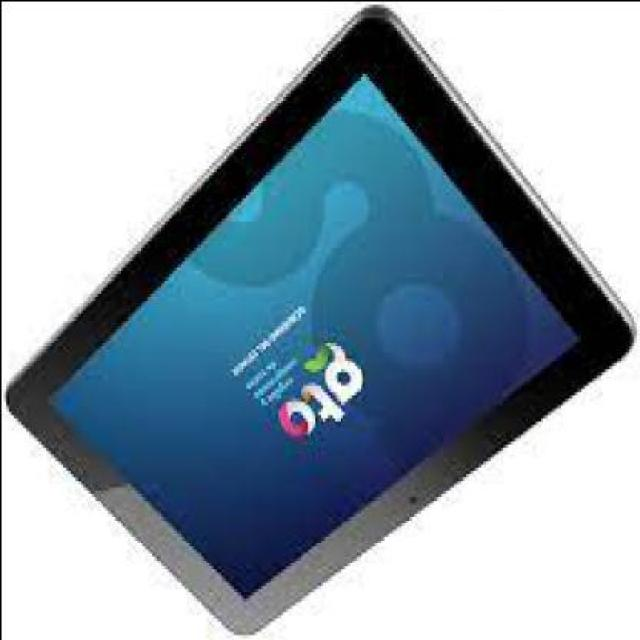tablet: (5, 2, 600, 636)
